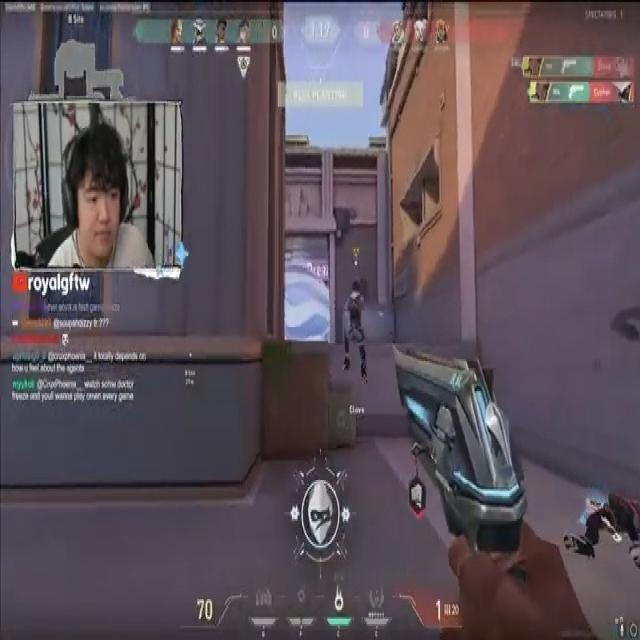ally: (342, 280, 369, 382)
